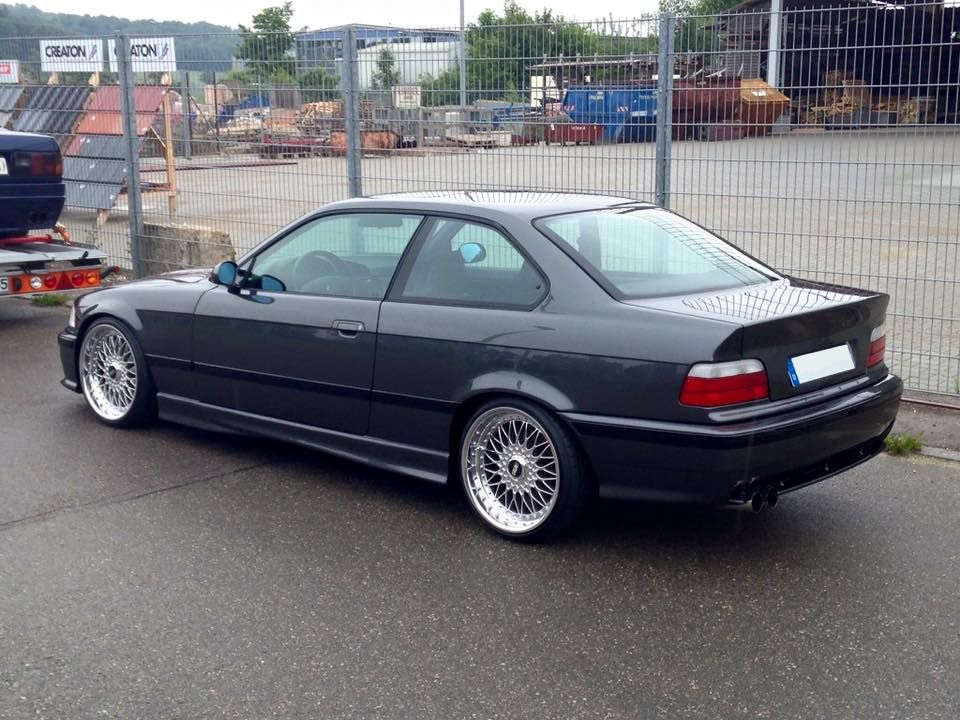car: (47, 181, 907, 550)
